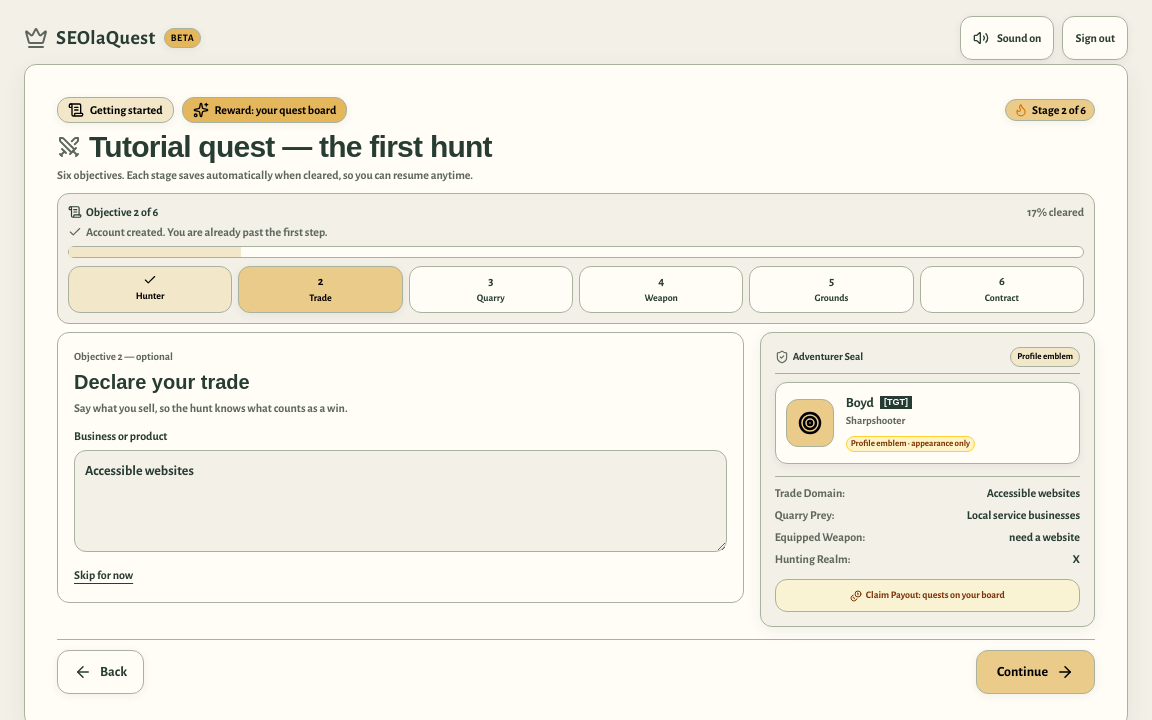
OnboardingForm › offers skip only on optional context and supports back navigation
The width and height of the screenshot is (1152, 720).
Click the button "Skip for now".
click(104, 574)  # box x1=74 y1=566 x2=133 y2=582
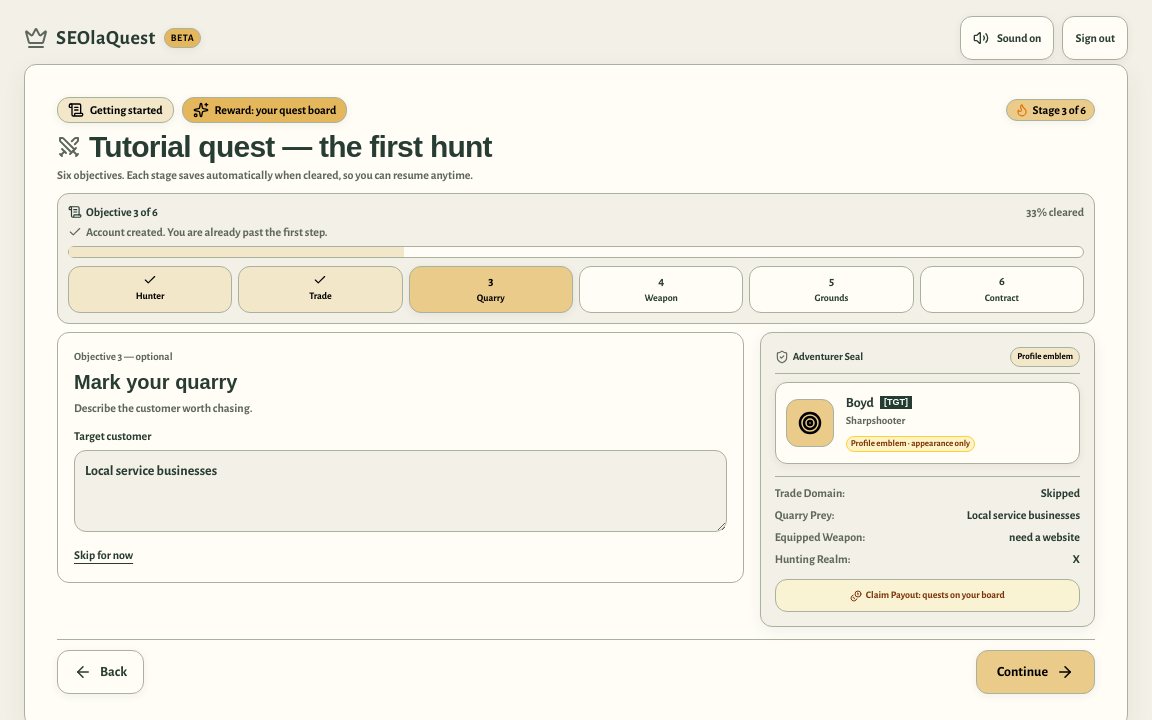
Check: the heading "Mark your quarry" is shown, box x1=74 y1=370 x2=237 y2=392
Click the button "Back".
click(101, 672)  # box x1=57 y1=650 x2=144 y2=694
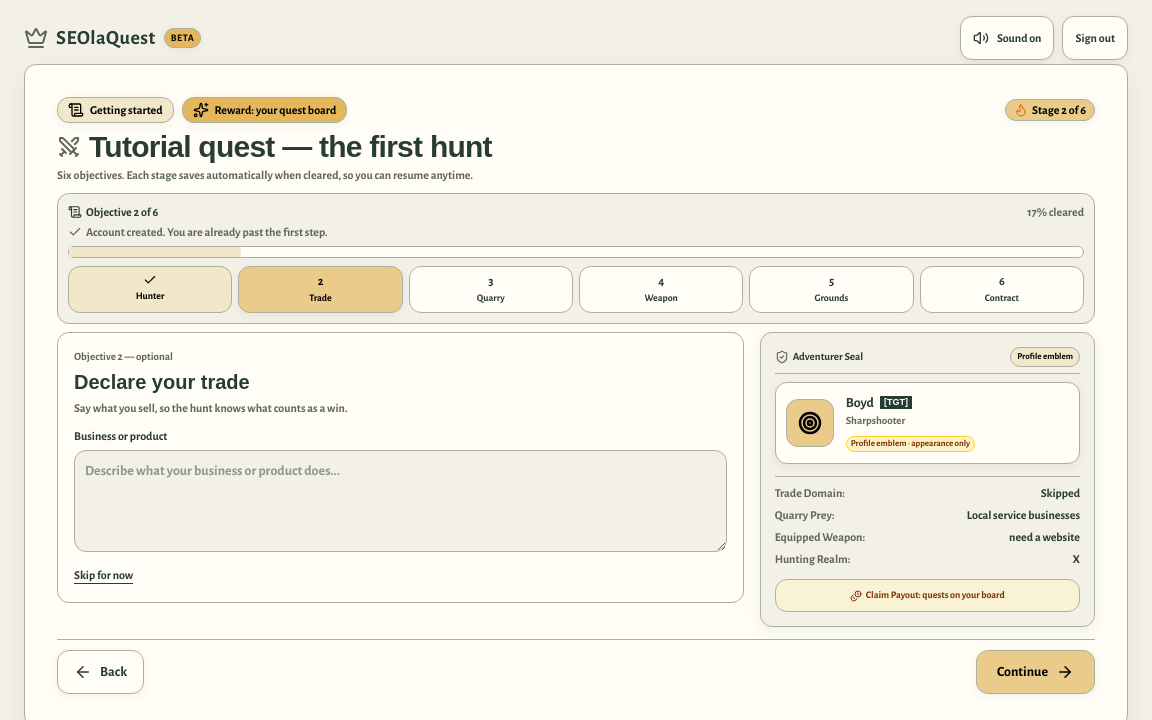
Check: the heading "Declare your trade" is shown, box x1=74 y1=370 x2=250 y2=392
